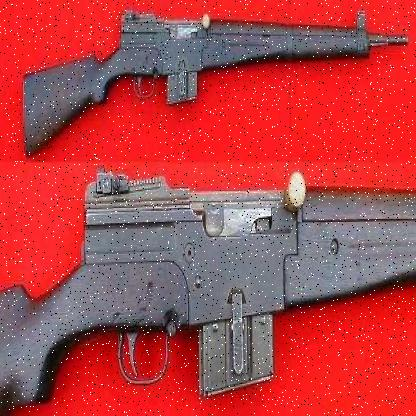rifle: (1, 172, 415, 415), (6, 0, 412, 160)
